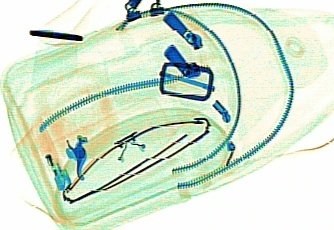lighter: (28, 117, 71, 192)
